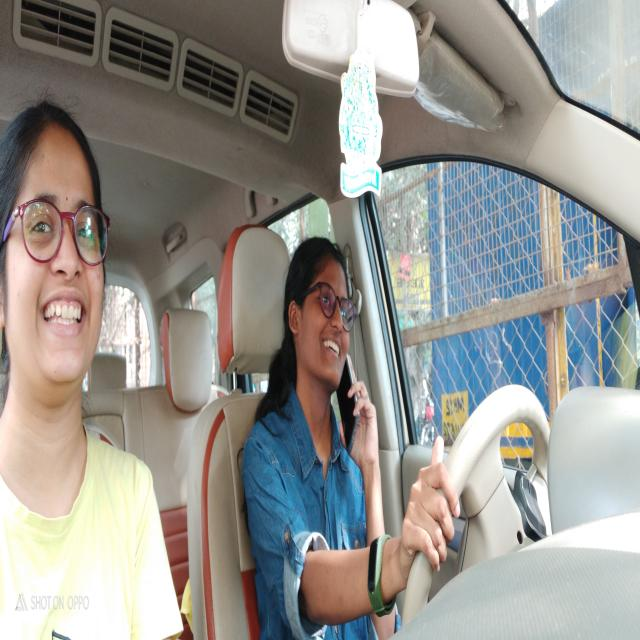mobile: (334, 350, 363, 457)
person: (0, 100, 111, 398), (283, 234, 354, 393)
